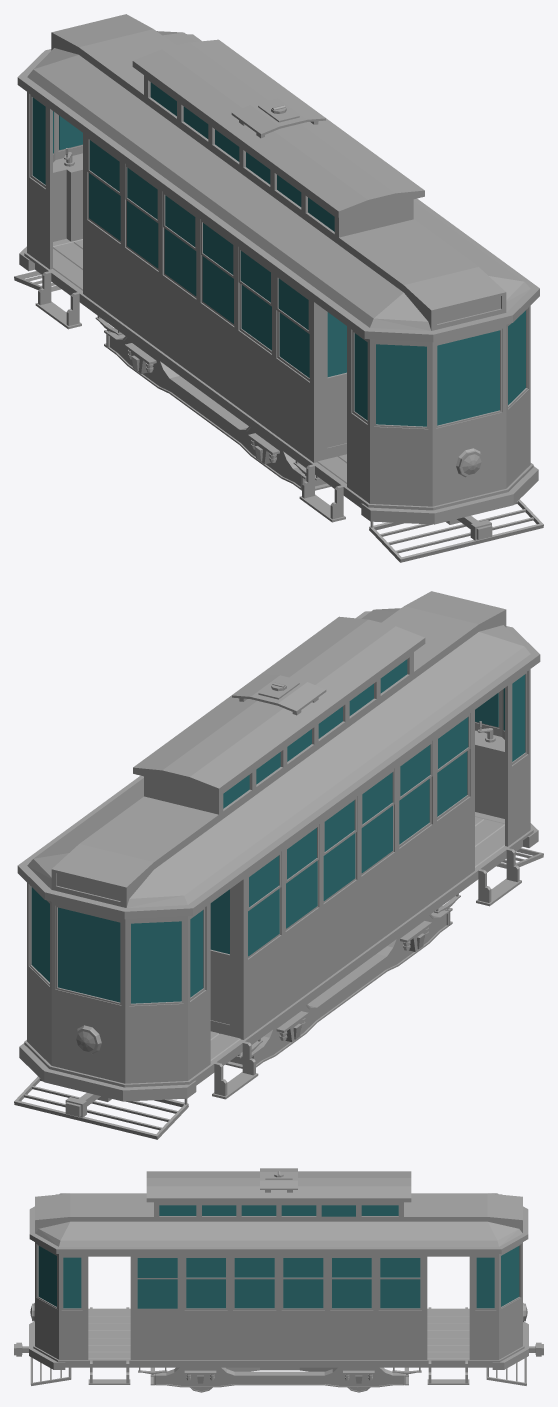
Rendered from tram.fbx.
3 views of the same model, one above another, from view 1: azimuth 30°, elevation 25°; view 2: azimuth 150°, elevation 25°; view 3: azimuth 270°, elevation 25° (orthographic). The views are drawn at different scales.
Parts seen in each view (by area): view 1: Tram; view 2: Tram; view 3: Tram.
Part boxes in pixels (x1,y1,x2,y2): Tram: (14, 14, 543, 562); Tram: (14, 591, 543, 1139); Tram: (14, 1168, 543, 1392).
Bounding box in the file's own units: 275 × 437 × 1035.
